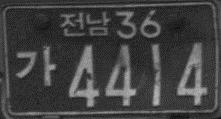1: (148, 40, 167, 110)
3: (114, 10, 137, 40)
4: (103, 43, 138, 106), (174, 39, 206, 106), (67, 44, 100, 107)
6: (140, 8, 161, 39)
가: (15, 44, 56, 87)
전남_O: (58, 11, 112, 38)
